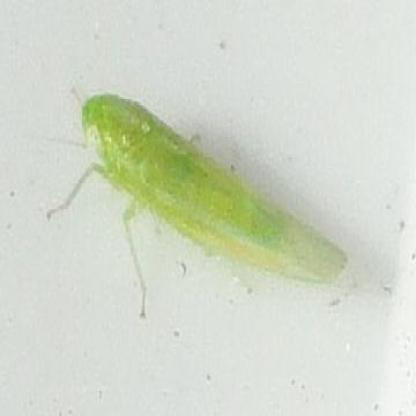green-leafhopper: (45, 95, 348, 320)
